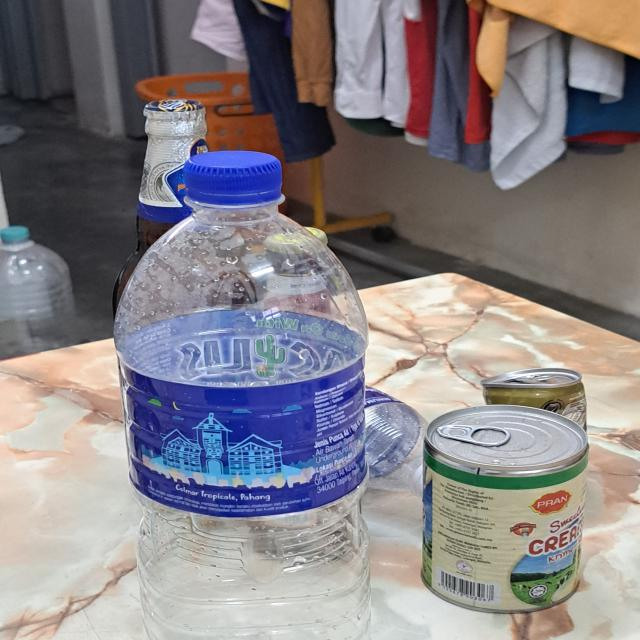can: (422, 405, 588, 616), (482, 368, 585, 433)
glass bottle: (117, 100, 256, 347)
plastic bottle: (119, 208, 368, 640), (0, 242, 78, 360), (359, 384, 433, 490)
plastic bottle cap: (184, 150, 283, 202), (0, 226, 31, 242)
pop tab: (437, 424, 511, 447), (514, 373, 556, 381)
